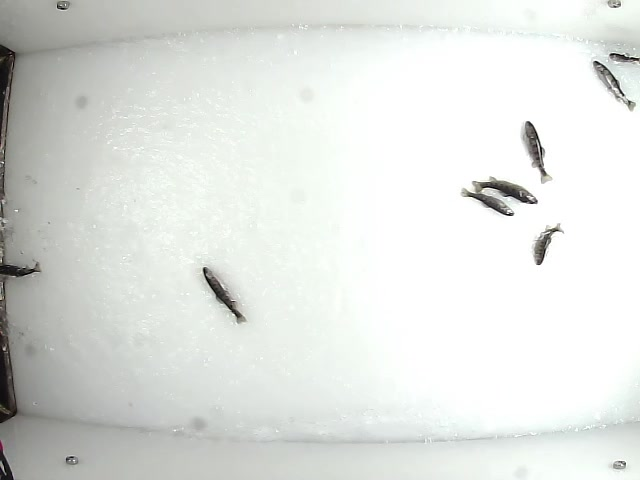fish: (201, 265, 248, 325), (590, 58, 638, 114), (469, 175, 539, 208), (520, 118, 554, 184), (458, 186, 517, 216), (531, 222, 566, 267)
